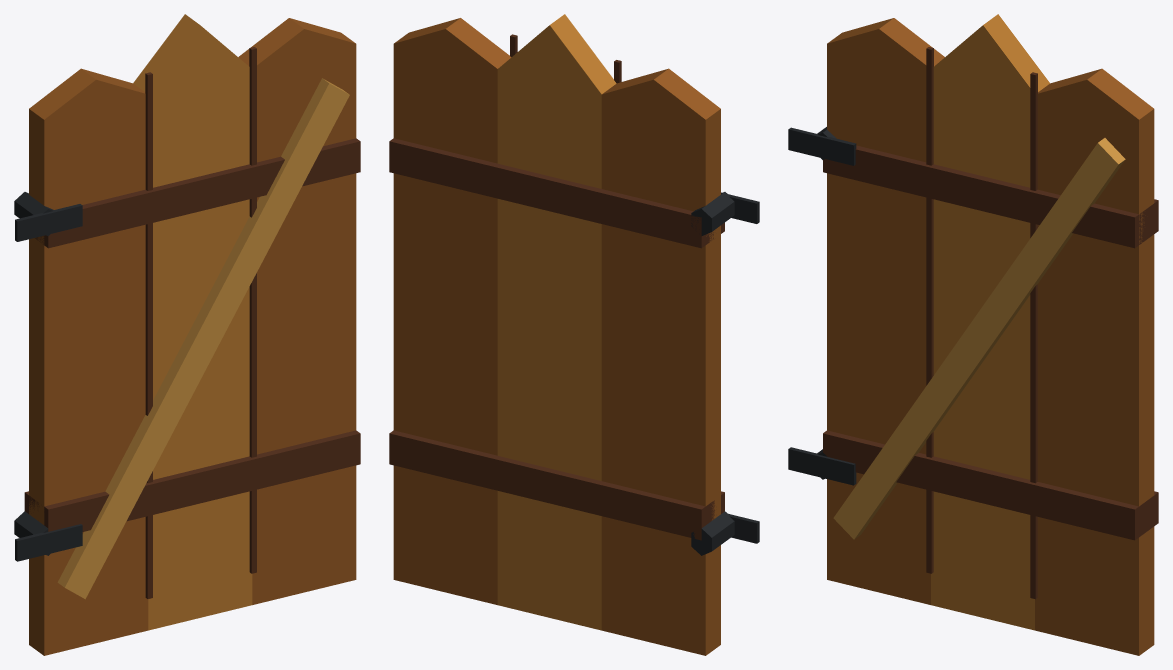
The picture shows the model from 3 angles, left to right: view 1: azimuth 30°, elevation 25°; view 2: azimuth 150°, elevation 25°; view 3: azimuth 330°, elevation 25°; orthographic projection.
Visible parts, largest first — view 1: WK_WoodPalisade_W16_LOD1; view 2: WK_WoodPalisade_W16_LOD1; view 3: WK_WoodPalisade_W16_LOD1.
Part boxes in pixels (box(x1,y1,x2,y2)): WK_WoodPalisade_W16_LOD1: box(14, 14, 360, 655); WK_WoodPalisade_W16_LOD1: box(389, 14, 759, 655); WK_WoodPalisade_W16_LOD1: box(788, 14, 1158, 655).
Size of the model in its own units: 2.1 by 3.45 by 0.28.
